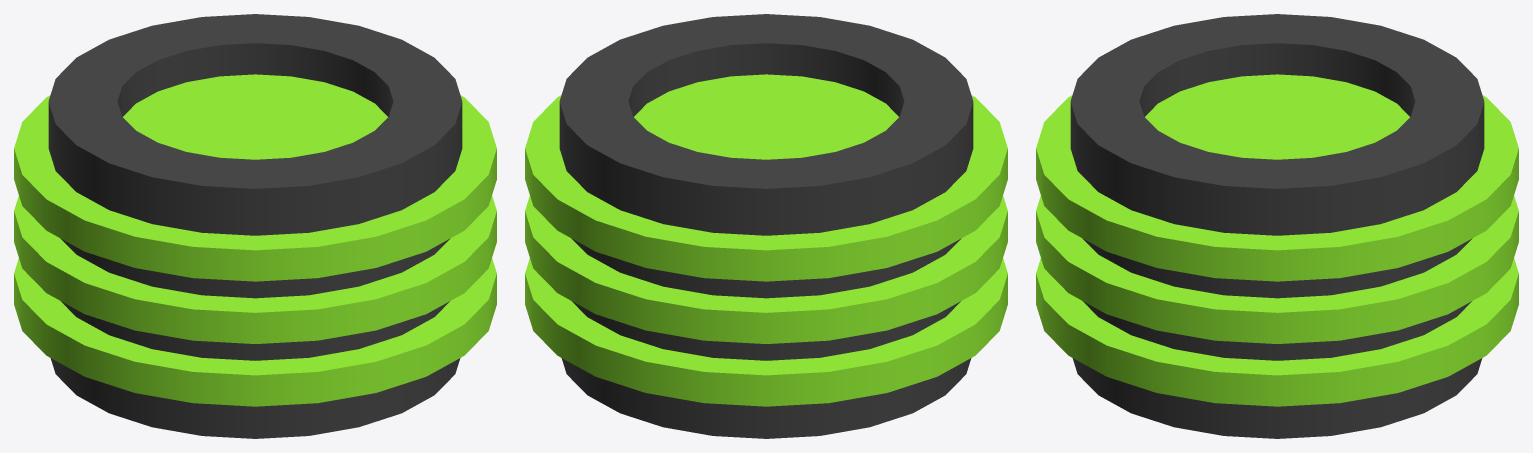
The model's file is BumperRinged.fbx.
3 views of the same model, side by side, from view 1: azimuth 30°, elevation 25°; view 2: azimuth 150°, elevation 25°; view 3: azimuth 270°, elevation 25° (orthographic).
Visible parts, largest first — view 1: BumperRinged; view 2: BumperRinged; view 3: BumperRinged.
Boxes of the visible parts, box(x1,y1,x2,y2) form: BumperRinged: box(14, 14, 496, 438); BumperRinged: box(525, 14, 1007, 438); BumperRinged: box(1036, 14, 1518, 438).
Bounding box in the file's own units: 70 × 40 × 70.
